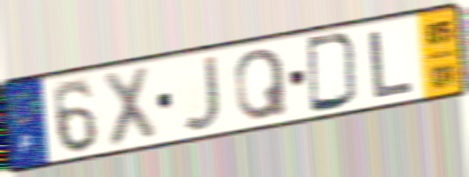6: (50, 75, 101, 156)
D: (304, 31, 362, 116)
J: (180, 52, 224, 134)
L: (368, 28, 417, 102)
Q: (233, 46, 291, 123)
X: (99, 62, 160, 151)
